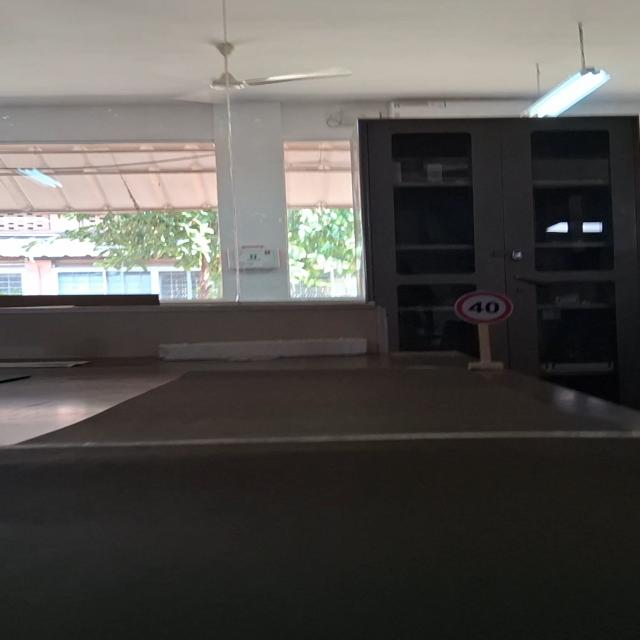Speed40: (451, 288, 517, 326)
